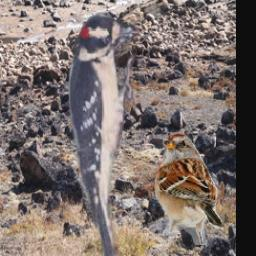Sparrow: (153, 133, 224, 246)
Woodpecker: (66, 8, 139, 256)
